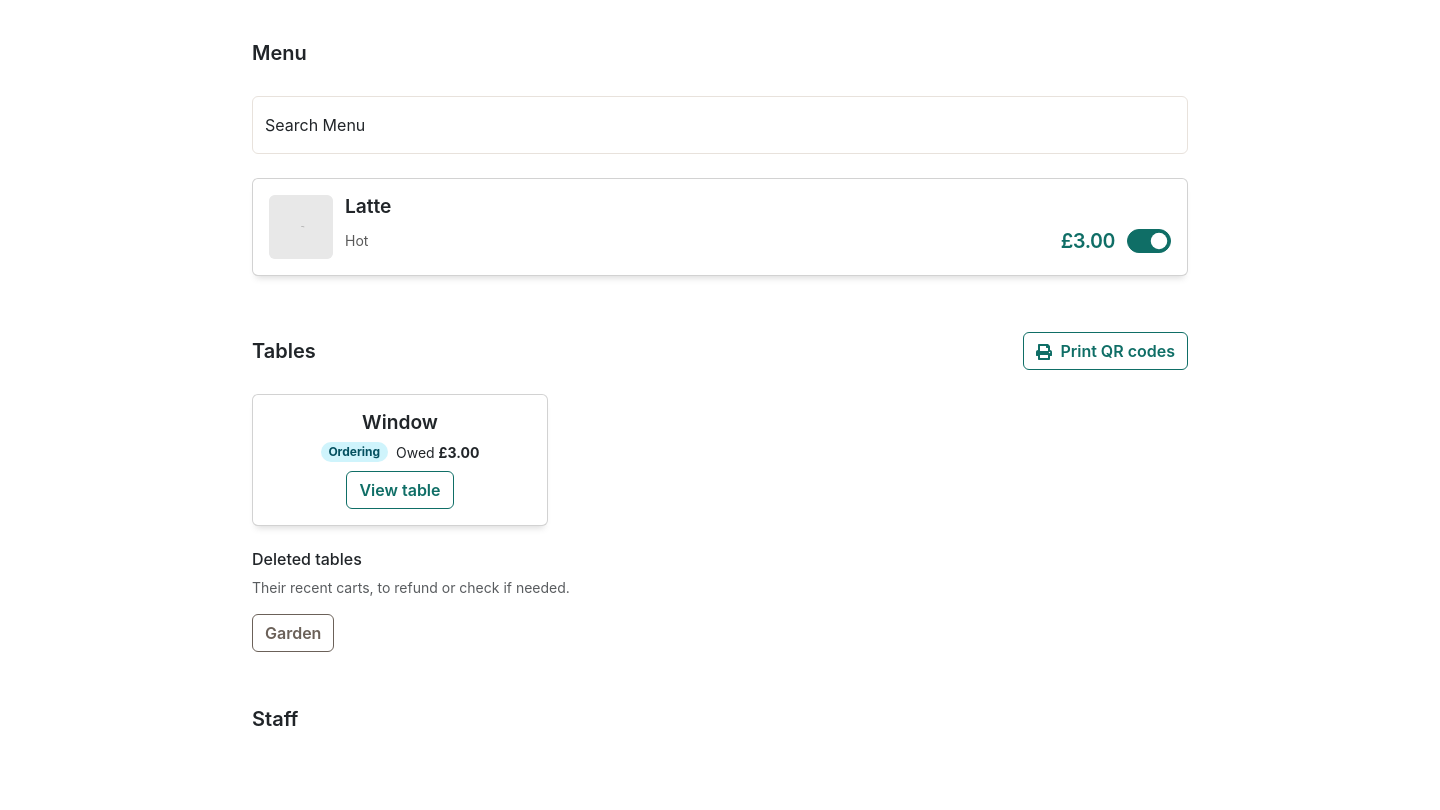
the table sheet › gives the till every action, money included
(page scrolled)
What coordinates should you click on to do the following:
click the button with aria-label "View table Window"
I would click on:
 (400, 490)
Its box is [346,471,454,509].
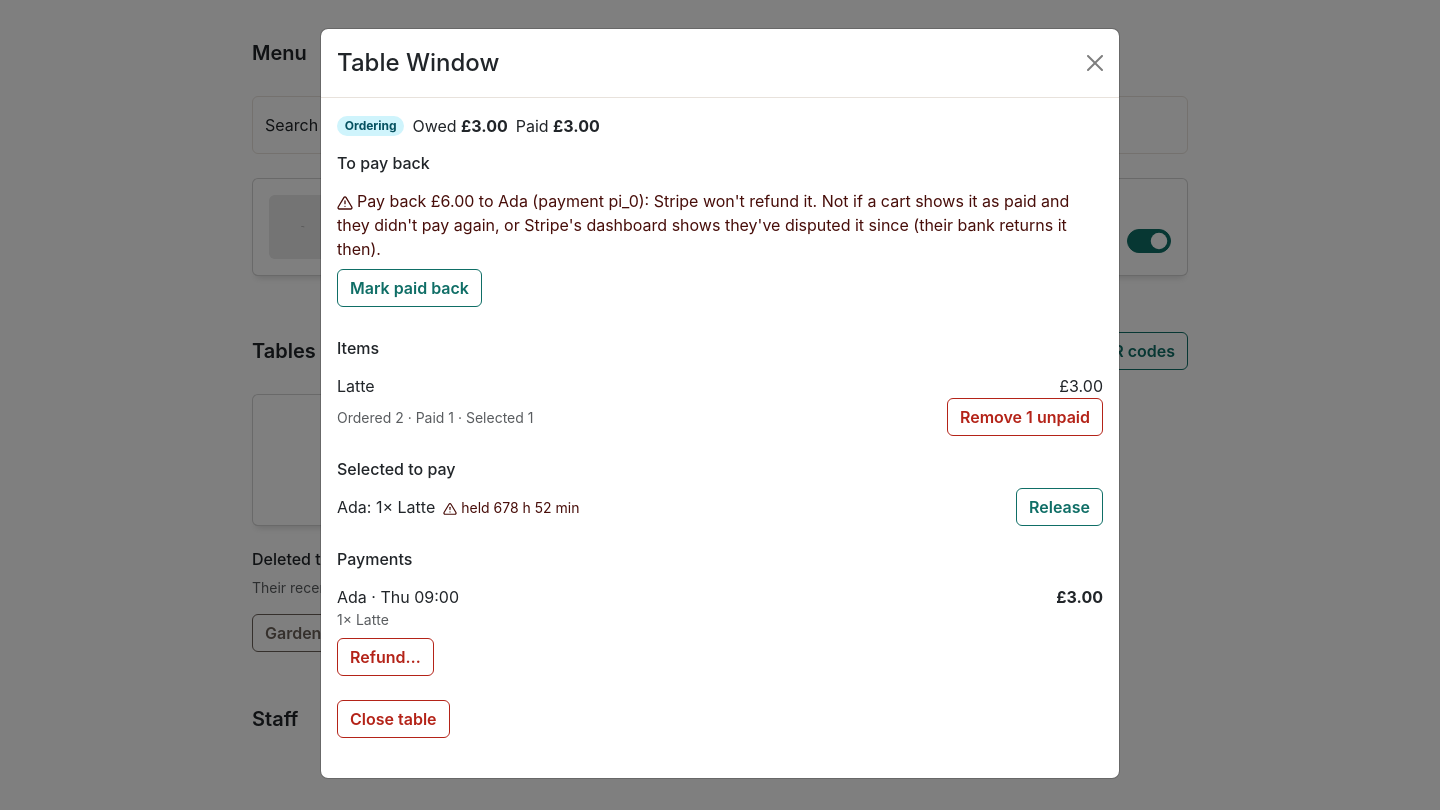
Result: the text "Ada: 1× Latte" is shown at [337,495,580,519]
Result: the list named "Owed" is shown at [337,181,1103,315]
